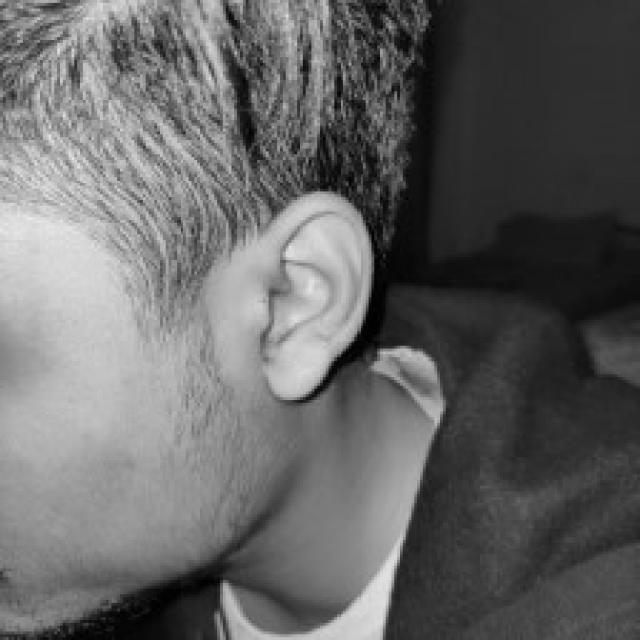ear: (260, 191, 371, 397)
